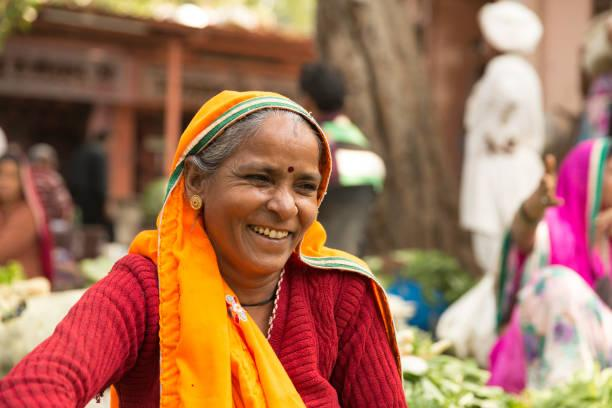Human: (27, 84, 436, 408)
